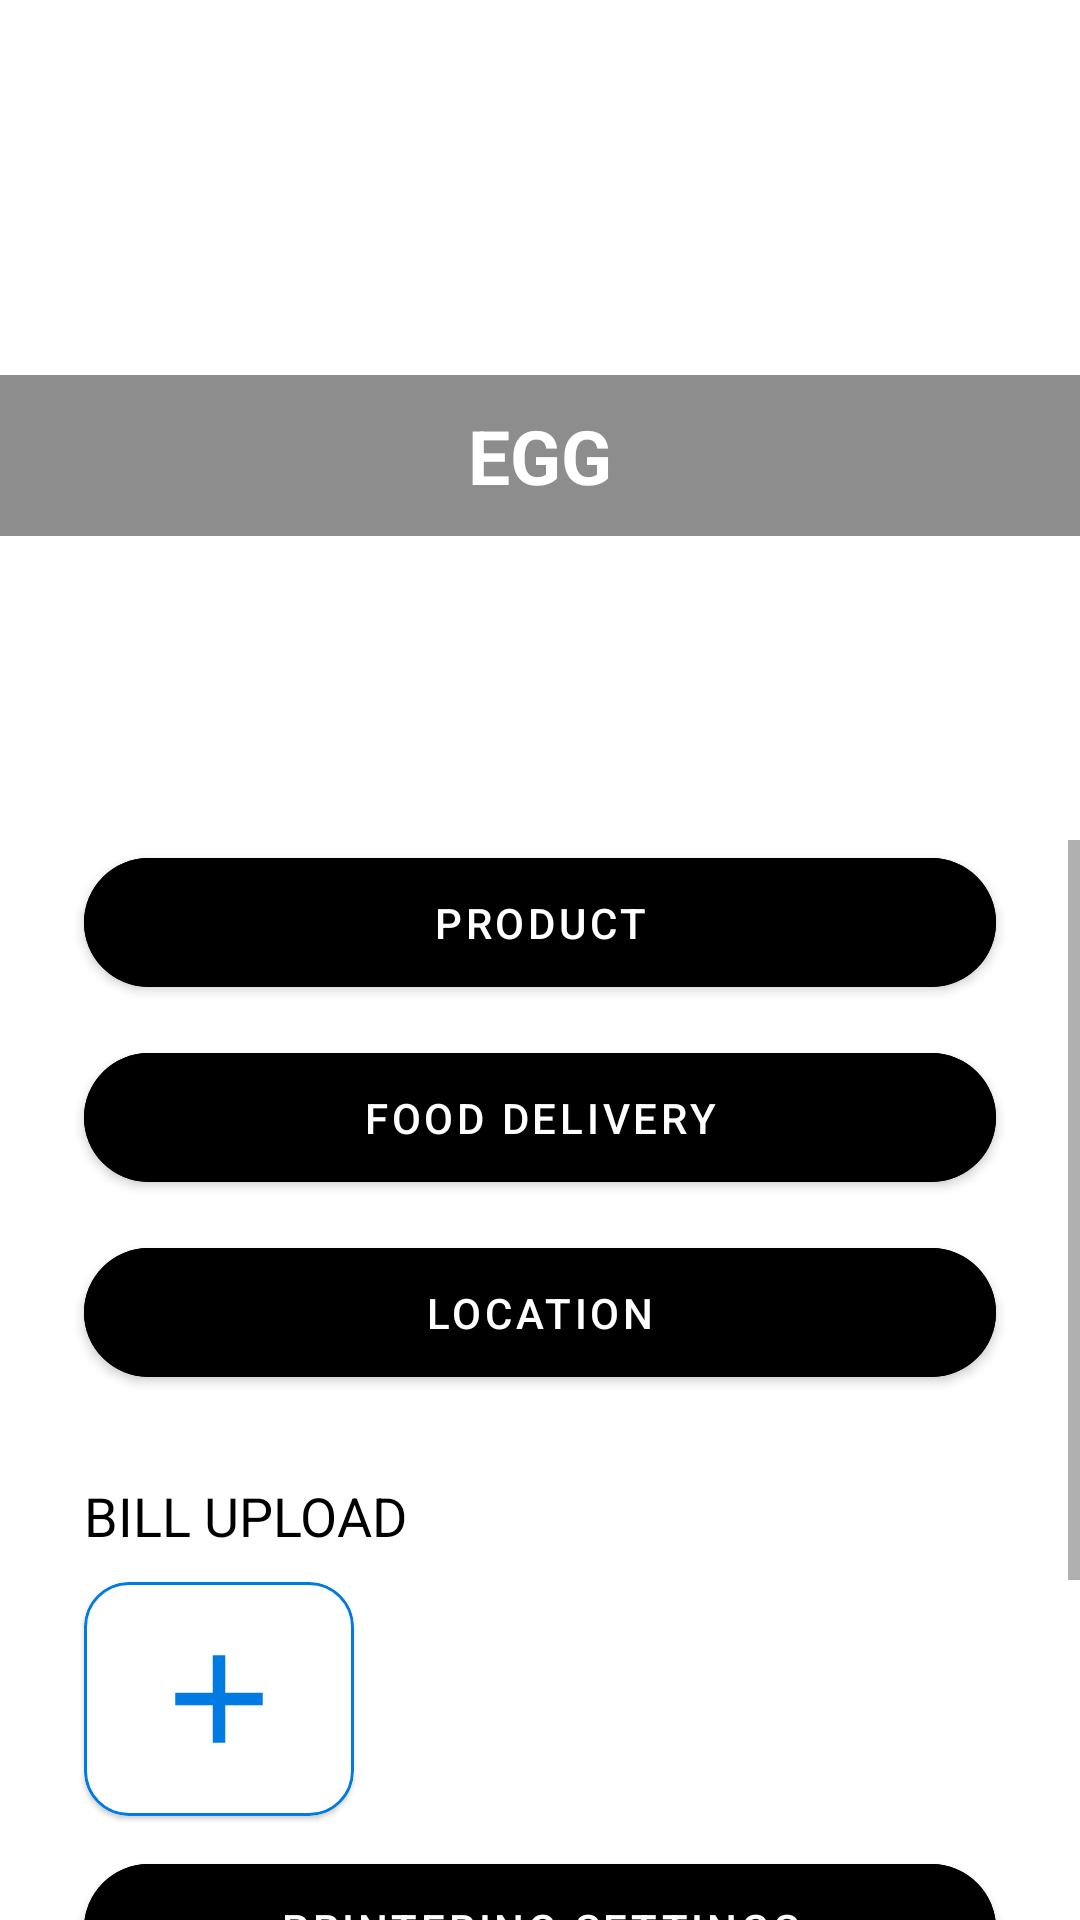

Where to tap for icons on this 1080 x 1920 app screen, as point (x, y):
add: point (219, 1699)
